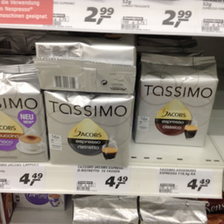coffee: (134, 52, 218, 148), (43, 88, 135, 168), (1, 65, 48, 163)
